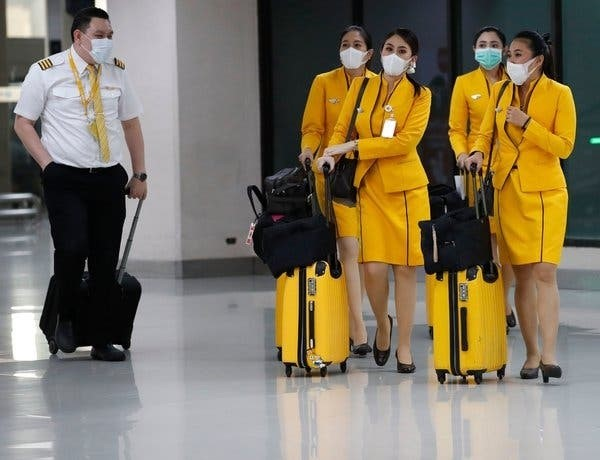face_with_mask: (70, 14, 122, 75), (501, 32, 546, 93), (376, 29, 419, 84), (334, 27, 375, 80), (468, 24, 507, 78)
